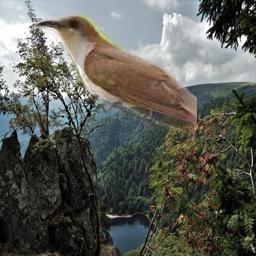Cuckoo: (31, 15, 197, 137)
